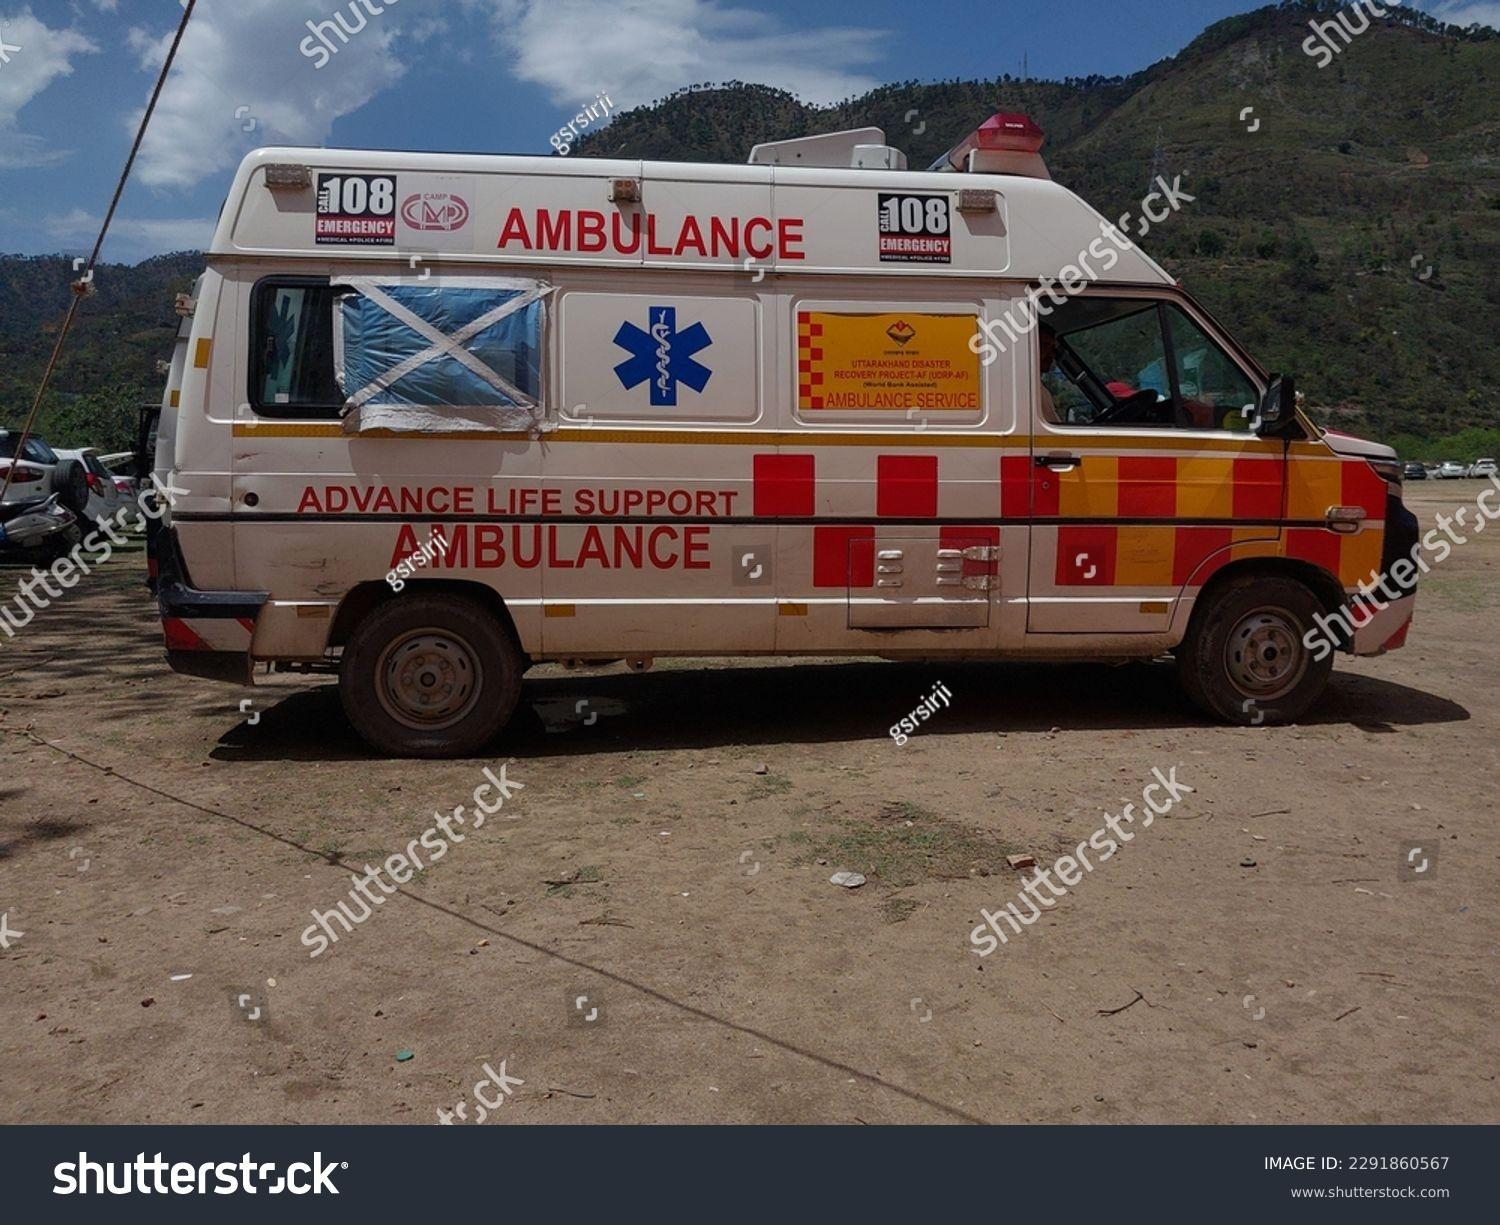ER: (135, 112, 1423, 725)
